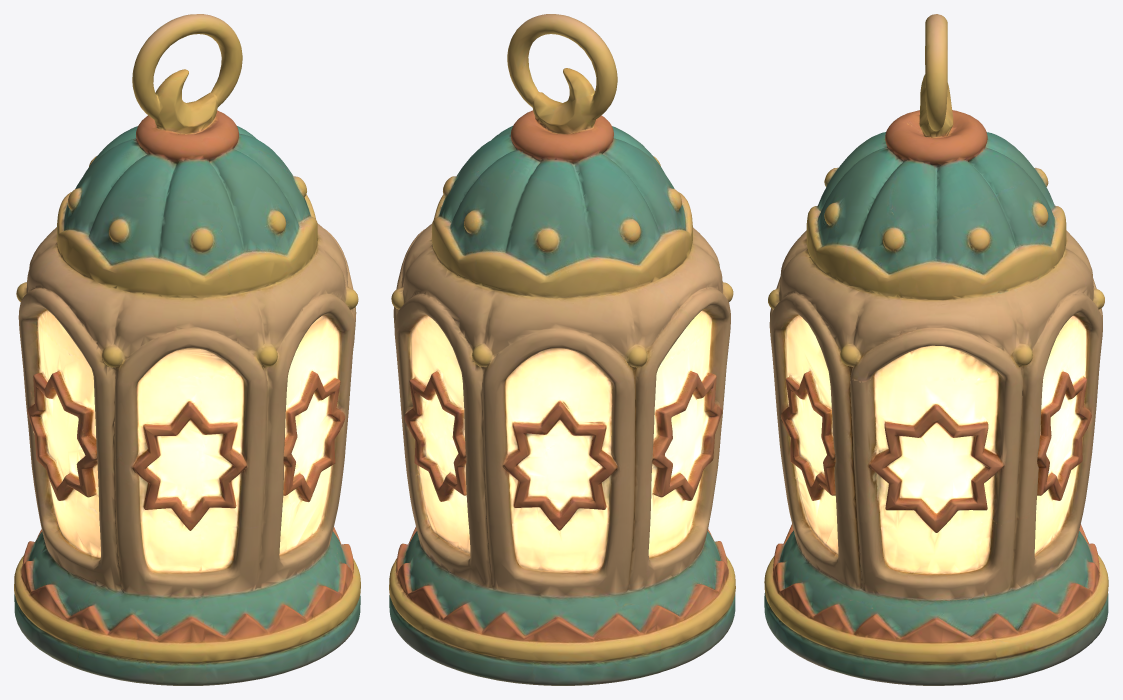
Rendered from curtains.glb.
3 views of the same model, side by side, from view 1: azimuth 30°, elevation 25°; view 2: azimuth 150°, elevation 25°; view 3: azimuth 270°, elevation 25° (orthographic).
Size of the model in its own units: 0.995 by 1.9 by 0.9924.
1 material, 1 textured.
